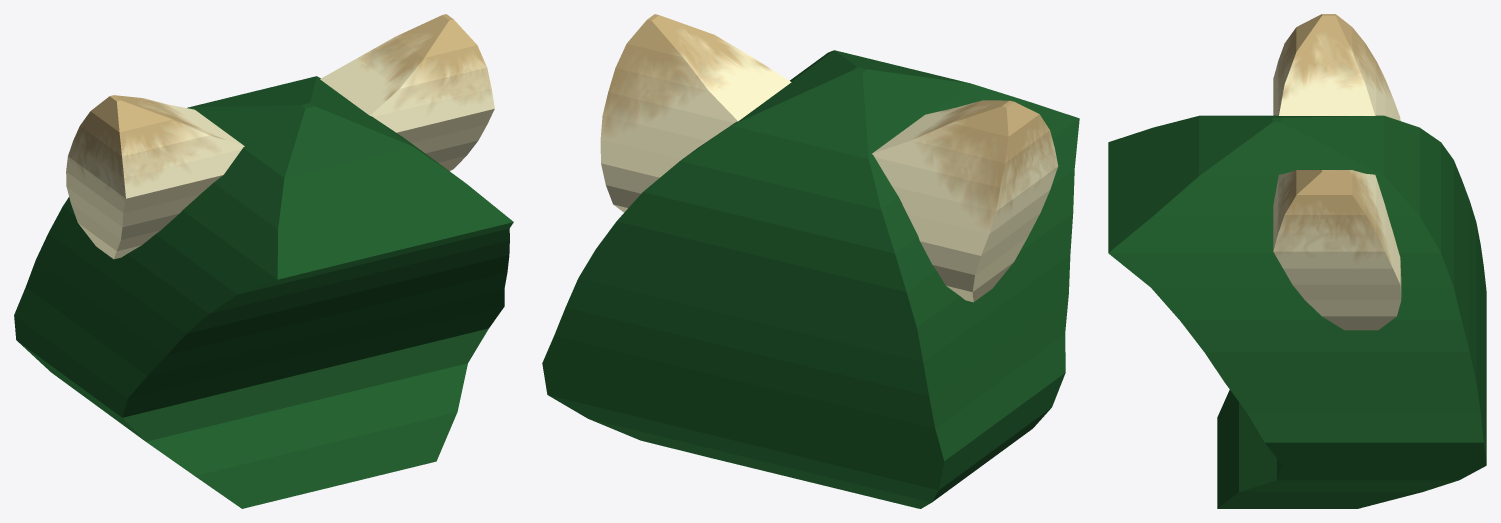
Rendered from ArcherCathoodandears.fbx.
The picture shows the model from 3 angles, left to right: view 1: azimuth 30°, elevation 25°; view 2: azimuth 150°, elevation 25°; view 3: azimuth 270°, elevation 25°; orthographic projection. The views are drawn at different scales.
Visible parts, largest first — view 1: Hood, Ear; view 2: Hood, Ear; view 3: Hood, Ear.
Boxes of the visible parts, x1,y1,x2,y2 form: Hood: [14, 76, 513, 508]; Ear: [66, 14, 494, 259]; Hood: [542, 50, 1079, 508]; Ear: [600, 14, 1058, 302]; Hood: [1108, 115, 1486, 508]; Ear: [1273, 14, 1401, 330].
Size of the model in its own units: 217 by 212 by 197.
2 materials, 2 textured.
